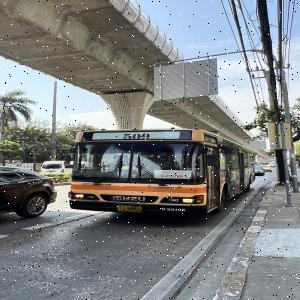BMTA-bus: (68, 129, 256, 215)
Bus Line Number: (116, 132, 152, 141)
Bus Side Number: (158, 206, 188, 212)
Destination Sign: (152, 170, 193, 179)
